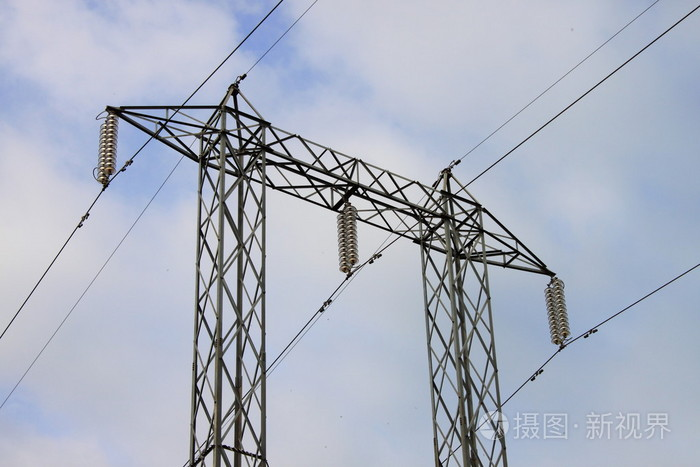insulator: (93, 113, 119, 184), (544, 280, 570, 345), (336, 205, 359, 273)
